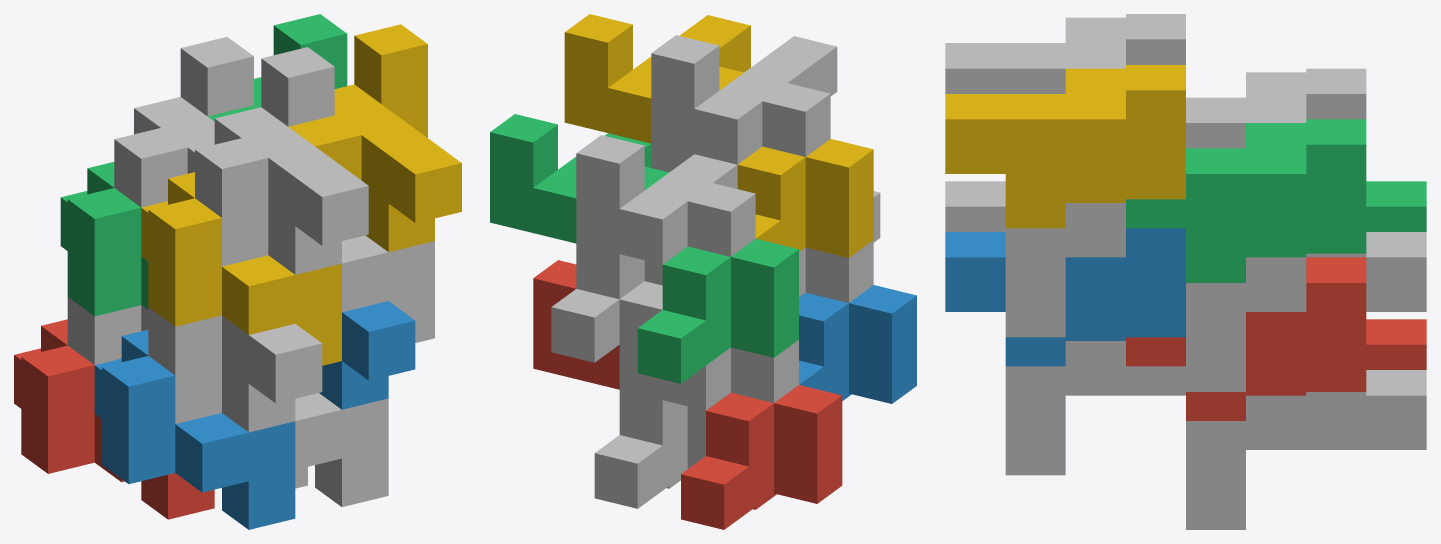
The model's file is tiling.obj.
3 views of the same model, side by side, from view 1: azimuth 30°, elevation 25°; view 2: azimuth 150°, elevation 25°; view 3: azimuth 270°, elevation 25° (orthographic). The views are drawn at different scales.
Parts seen in each view (by area): view 1: copy_2_domain_4, copy_2_domain_8, copy_1_domain_2, copy_1_domain_4, copy_2_domain_2, copy_1_domain_1, copy_2_domain_3, copy_1_domain_3, copy_1_domain_6, copy_2_domain_6, copy_1_domain_8, copy_2_domain_1 (+1 smaller); view 2: copy_2_domain_4, copy_2_domain_3, copy_1_domain_1, copy_1_domain_3, copy_1_domain_4, copy_1_domain_2, copy_2_domain_8, copy_2_domain_7, copy_1_domain_5, copy_2_domain_1, copy_1_domain_7, copy_2_domain_5 (+2 smaller); view 3: copy_2_domain_8, copy_2_domain_7, copy_2_domain_6, copy_1_domain_5, copy_2_domain_5, copy_1_domain_7, copy_2_domain_4, copy_1_domain_6, copy_1_domain_8, copy_2_domain_3, copy_1_domain_1, copy_1_domain_3 (+1 smaller).
Part boxes in pixels (x1,y1,x2,y2): copy_2_domain_4: [195, 47, 368, 274]; copy_2_domain_8: [288, 24, 461, 252]; copy_1_domain_2: [94, 329, 295, 529]; copy_1_domain_4: [141, 172, 341, 365]; copy_2_domain_2: [148, 307, 322, 432]; copy_1_domain_1: [14, 319, 214, 519]; copy_2_domain_3: [114, 37, 253, 207]; copy_1_domain_3: [60, 162, 148, 316]; copy_1_domain_6: [295, 393, 388, 506]; copy_2_domain_6: [319, 301, 415, 409]; copy_1_domain_8: [342, 235, 434, 342]; copy_2_domain_1: [67, 297, 148, 364]; copy_2_domain_4: [651, 35, 837, 164]; copy_2_domain_3: [576, 135, 755, 264]; copy_1_domain_1: [681, 385, 842, 529]; copy_1_domain_3: [637, 239, 798, 383]; copy_1_domain_4: [737, 139, 873, 257]; copy_1_domain_2: [799, 285, 916, 403]; copy_2_domain_8: [564, 14, 750, 143]; copy_2_domain_7: [490, 114, 668, 243]; copy_1_domain_5: [594, 390, 705, 508]; copy_2_domain_1: [619, 281, 798, 410]; copy_1_domain_7: [551, 243, 662, 362]; copy_2_domain_5: [533, 260, 619, 389]; copy_2_domain_8: [945, 65, 1185, 228]; copy_2_domain_7: [1126, 119, 1366, 282]; copy_2_domain_6: [945, 228, 1185, 366]; copy_1_domain_5: [1186, 370, 1426, 529]; copy_2_domain_5: [1126, 257, 1366, 420]; copy_1_domain_7: [1186, 232, 1426, 391]; copy_2_domain_4: [945, 14, 1185, 93]; copy_1_domain_6: [1005, 341, 1185, 475]; copy_1_domain_8: [1005, 203, 1125, 337]; copy_2_domain_3: [1186, 68, 1366, 148]; copy_1_domain_1: [1366, 319, 1426, 369]; copy_1_domain_3: [1366, 181, 1426, 231].
Bounding box in the file's own units: 7 × 9 × 8.
